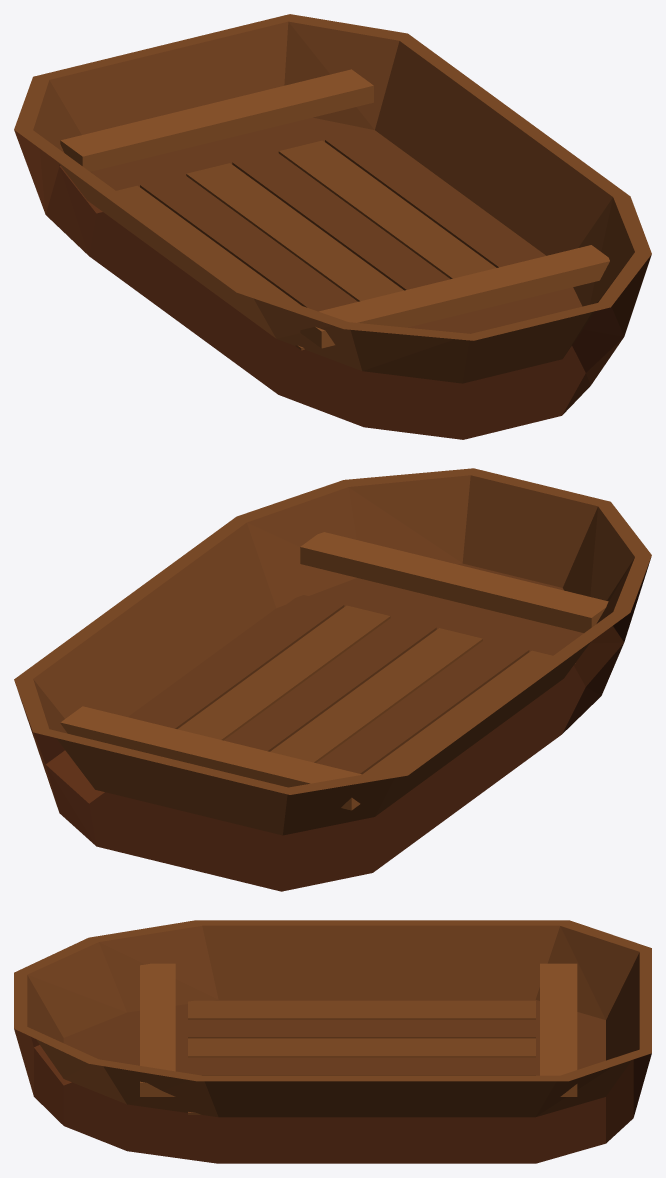
File: barquito.obj
3 views of the same model, one above another, from view 1: azimuth 30°, elevation 25°; view 2: azimuth 150°, elevation 25°; view 3: azimuth 270°, elevation 25° (orthographic). The views are drawn at different scales.
Parts seen in each view (by area): view 1: Barquito; view 2: Barquito; view 3: Barquito.
Part boxes in pixels (left/top/right/bottom): Barquito: left=14, top=14, right=651, bottom=439; Barquito: left=14, top=468, right=651, bottom=891; Barquito: left=14, top=920, right=651, bottom=1163.
Bounding box in the file's own units: 4.6 × 1.4 × 7.7.
